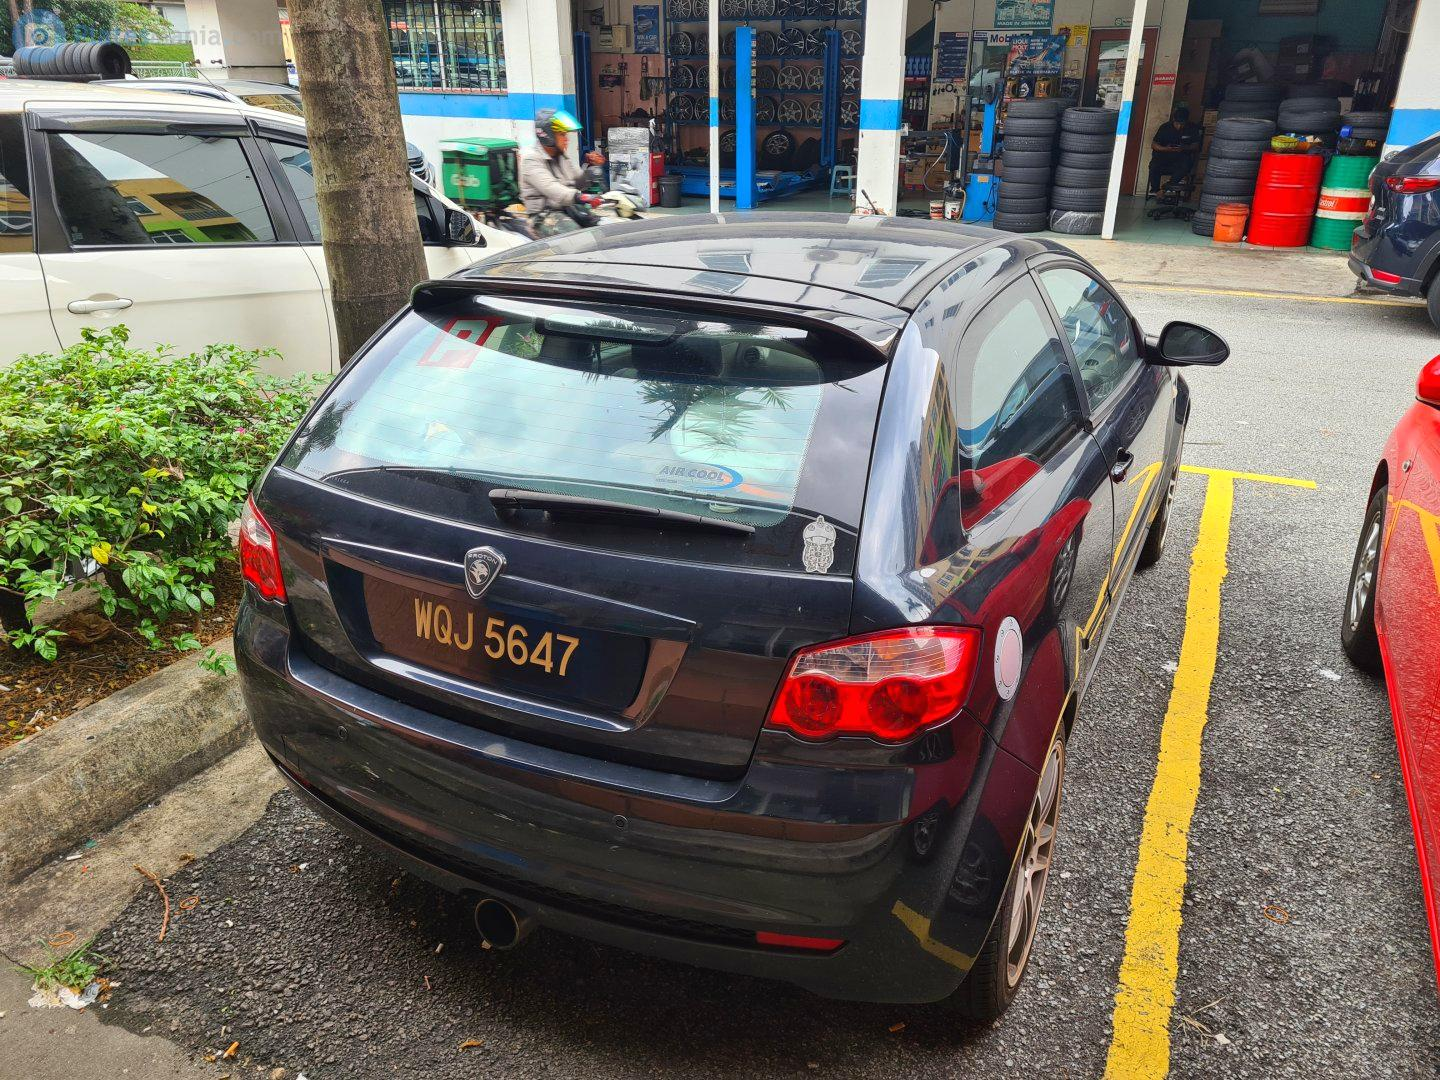License Plate: (374, 582, 624, 712)
